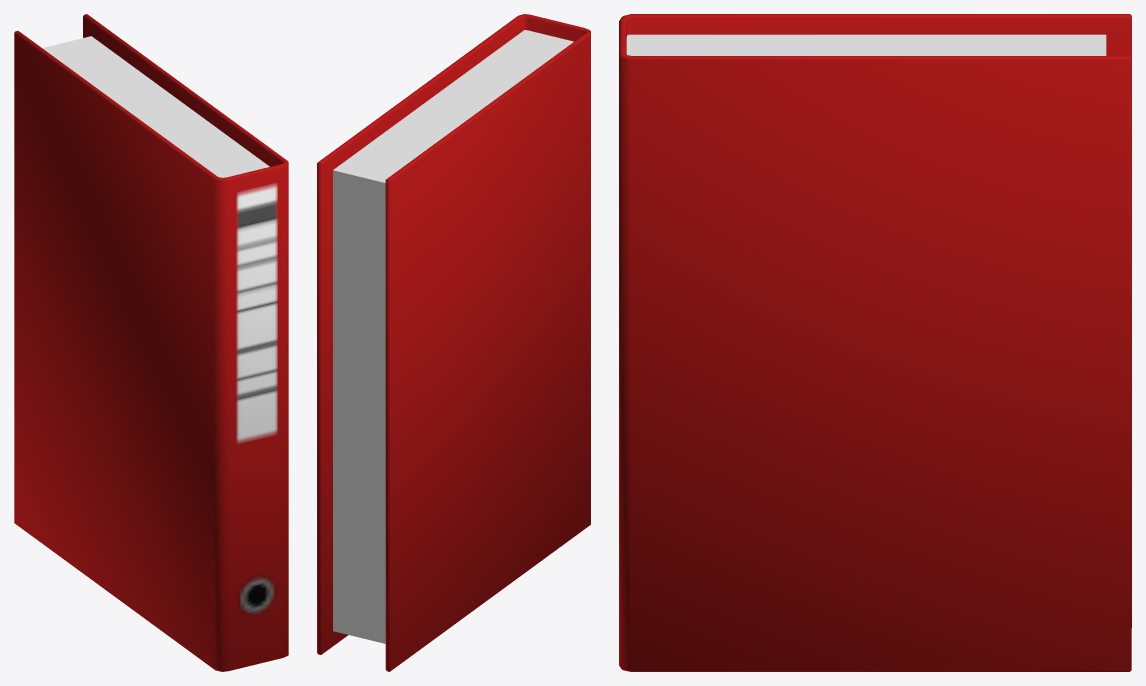
The model's file is office folder6.FBX.
The picture shows the model from 3 angles, left to right: view 1: azimuth 30°, elevation 25°; view 2: azimuth 150°, elevation 25°; view 3: azimuth 270°, elevation 25°; orthographic projection. The views are drawn at different scales.
Parts seen in each view (by area): view 1: office folder6; view 2: office folder6; view 3: office folder6.
Part boxes in pixels (bbox=[...]): office folder6: bbox=[14, 14, 288, 671]; office folder6: bbox=[317, 14, 590, 671]; office folder6: bbox=[619, 14, 1131, 671].
Bounding box in the file's own units: 1.78 × 8.57 × 11.33.
Materials: 1 (1 with a texture image).
